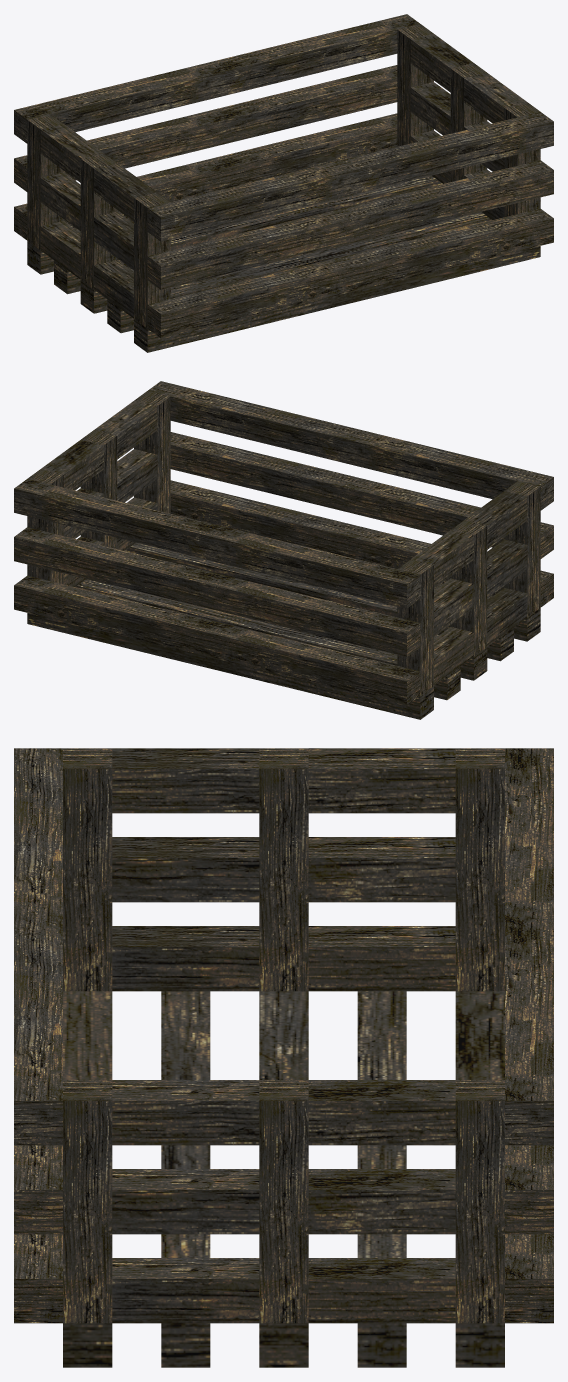
File: WoodCrate.fbx
The picture shows the model from 3 angles, top to bottom: view 1: azimuth 30°, elevation 25°; view 2: azimuth 150°, elevation 25°; view 3: azimuth 270°, elevation 25°; orthographic projection. The views are drawn at different scales.
Visible parts, largest first — view 1: WoodCrate; view 2: WoodCrate; view 3: WoodCrate.
Part boxes in pixels (x1=…): WoodCrate: x1=14, y1=14, x2=553, y2=352; WoodCrate: x1=14, y1=381, x2=553, y2=719; WoodCrate: x1=14, y1=748, x2=553, y2=1367.
Size of the model in its own units: 68 by 24 by 44.
1 material, 1 textured.
